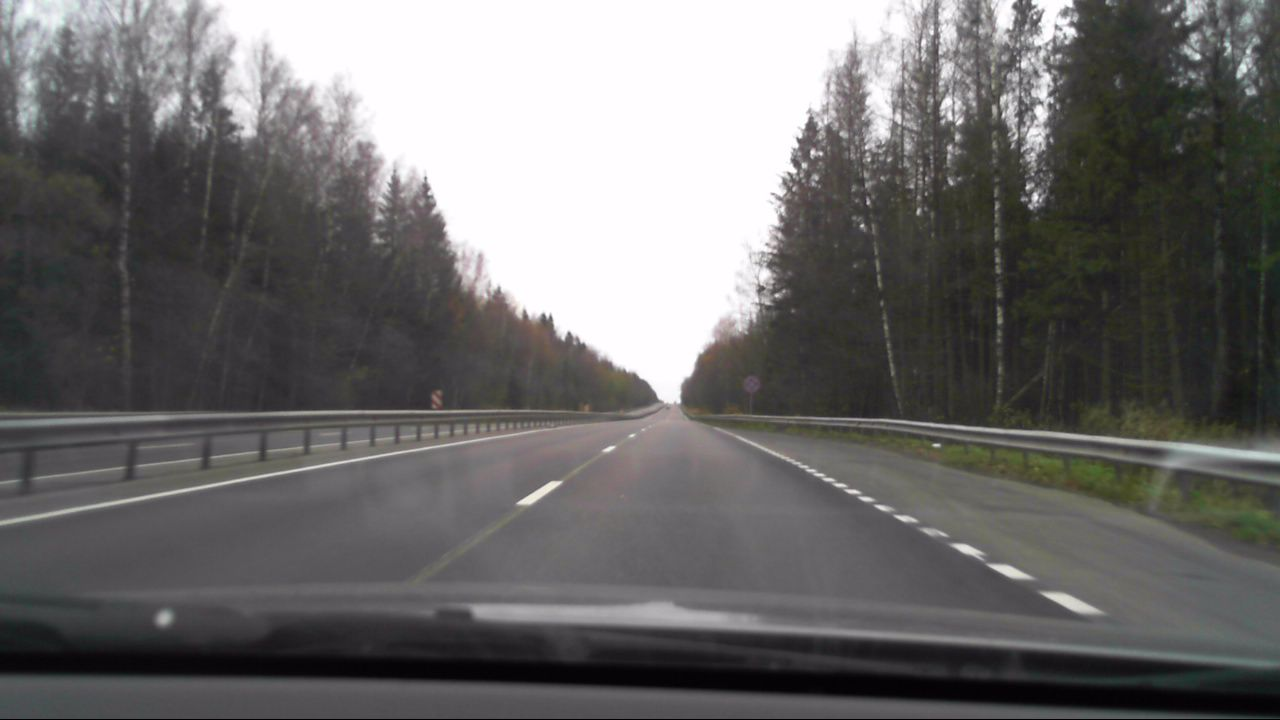No Parking: (740, 372, 759, 393)
